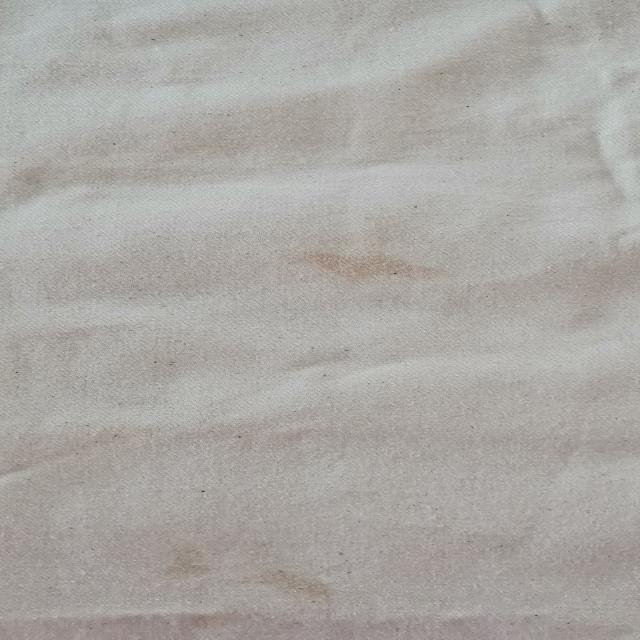taaaches: (298, 242, 452, 286), (249, 558, 342, 604), (150, 541, 208, 589), (164, 605, 222, 637)
